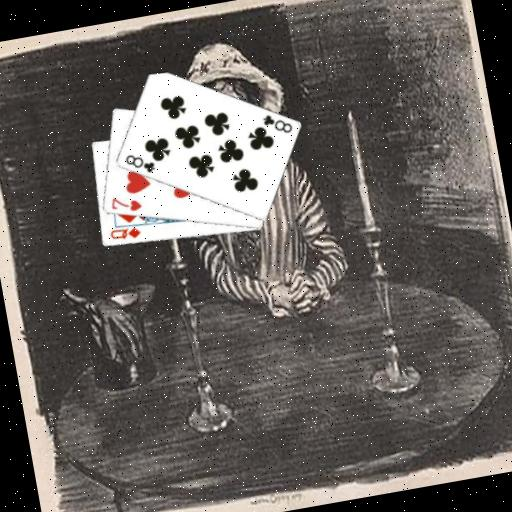7H: (107, 190, 144, 216)
8C: (257, 107, 294, 139), (121, 147, 157, 178)
QD: (106, 222, 142, 244)
